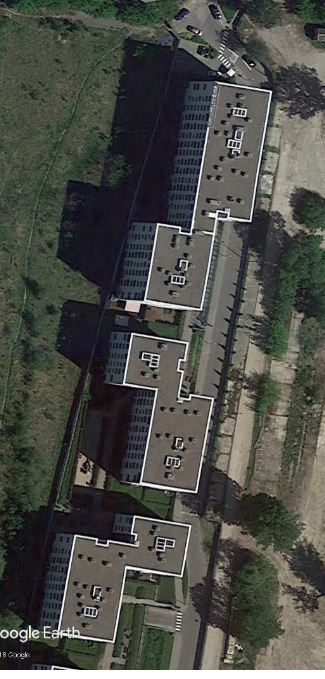block of flats: (107, 68, 285, 316), (35, 506, 199, 648), (99, 329, 225, 501)
